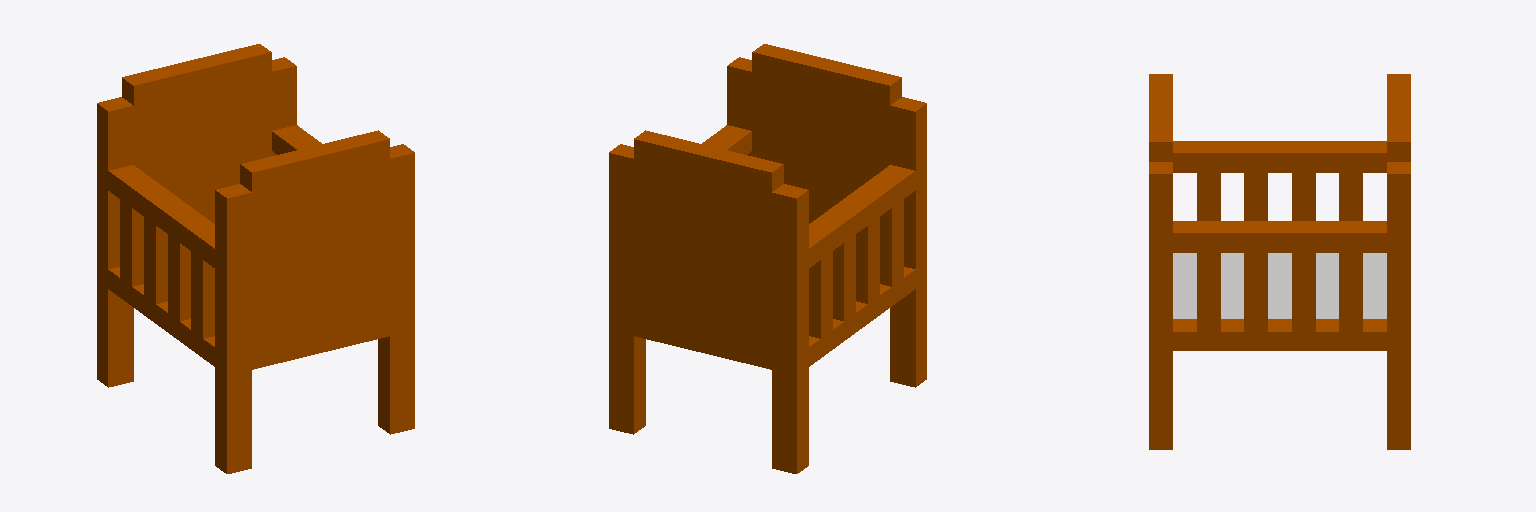
The model's file is Crib.obj.
The picture shows the model from 3 angles: view 1: azimuth 30°, elevation 25°; view 2: azimuth 150°, elevation 25°; view 3: azimuth 270°, elevation 25°; orthographic projection.
Parts seen in each view (by area): view 1: Crib; view 2: Crib; view 3: Crib.
Boxes of the visible parts, x1,y1,x2,y2 form: Crib: [97, 44, 414, 473]; Crib: [609, 44, 926, 473]; Crib: [1149, 74, 1410, 449].
Bounding box in the file's own units: 1 × 1.5 × 1.2.